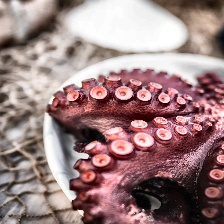octopus: (92, 154, 116, 170)
